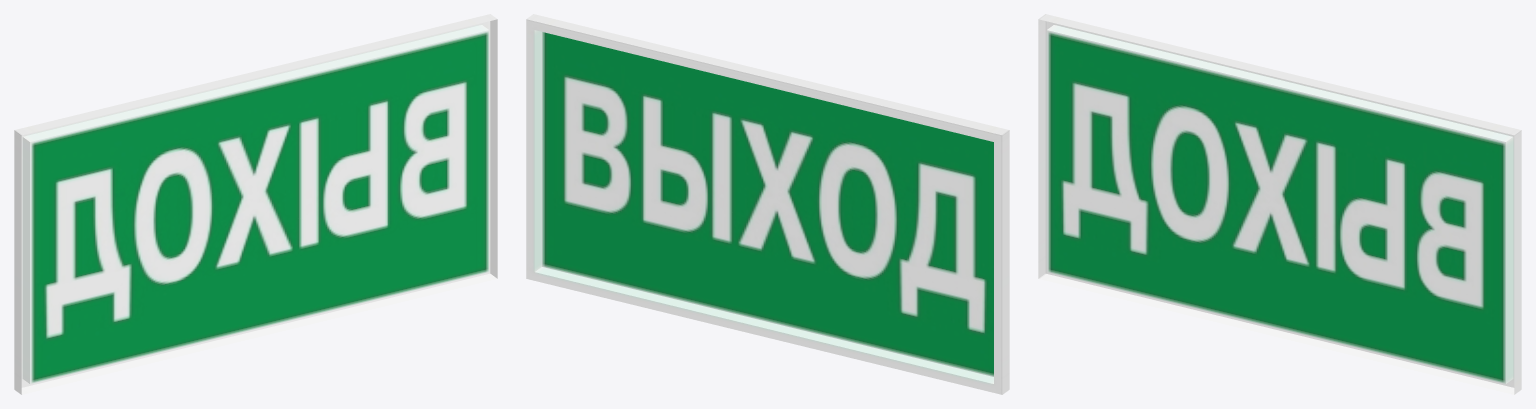
The model's file is exit.glb.
The picture shows the model from 3 angles, left to right: view 1: azimuth 30°, elevation 25°; view 2: azimuth 150°, elevation 25°; view 3: azimuth 330°, elevation 25°; orthographic projection.
Parts seen in each view (by area): view 1: 4et.021; view 2: 4et.021; view 3: 4et.021.
Boxes of the visible parts, bbox=[...] form: 4et.021: bbox=[14, 14, 497, 394]; 4et.021: bbox=[526, 14, 1009, 394]; 4et.021: bbox=[1038, 14, 1521, 394].
Size of the model in its own units: 0.3794 by 0.1977 by 0.00997.
Materials: 1 (1 with a texture image).
